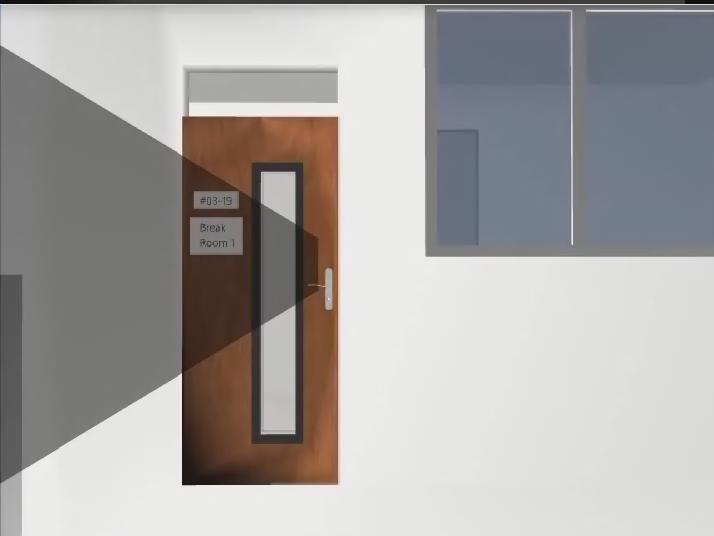door: (182, 117, 339, 485)
